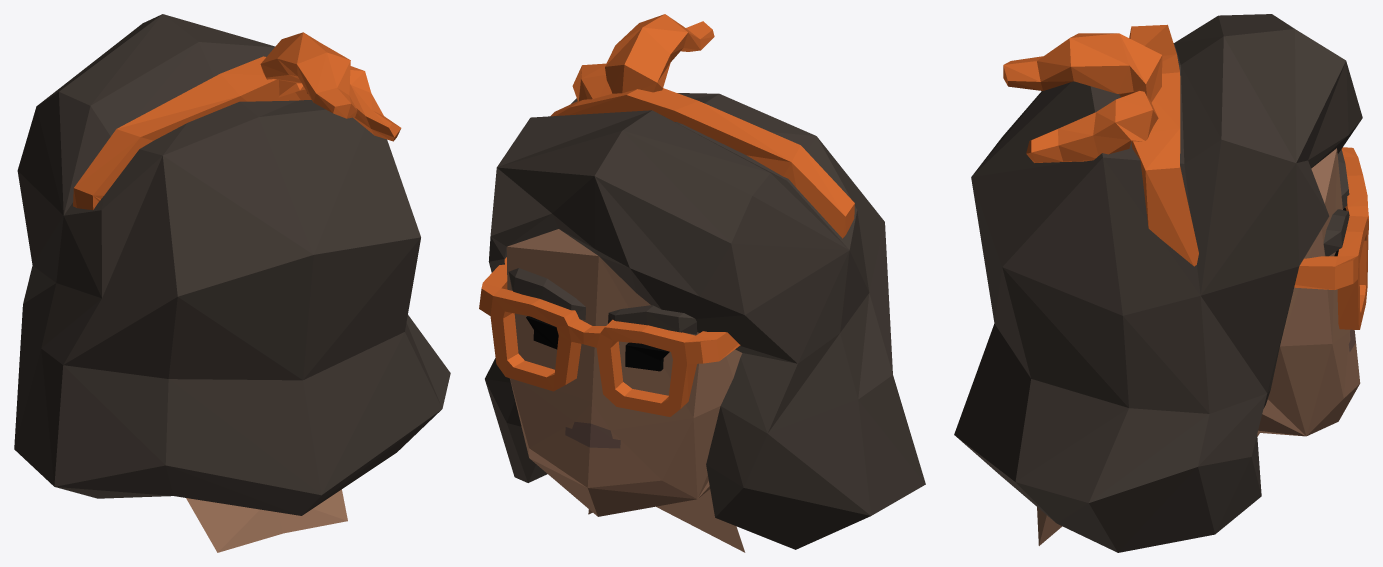
The model's file is Mother_01_Head_0_03_C.obj.
3 views of the same model, side by side, from view 1: azimuth 30°, elevation 25°; view 2: azimuth 150°, elevation 25°; view 3: azimuth 270°, elevation 25° (orthographic). The views are drawn at different scales.
Visible parts, largest first — view 1: Mother_01_Head_0_03_C; view 2: Mother_01_Head_0_03_C; view 3: Mother_01_Head_0_03_C.
Boxes of the visible parts, left/top/right/bottom form: Mother_01_Head_0_03_C: left=14, top=14, right=450, bottom=552; Mother_01_Head_0_03_C: left=479, top=14, right=925, bottom=552; Mother_01_Head_0_03_C: left=954, top=14, right=1368, bottom=552.
Bounding box in the file's own units: 0.3657 × 0.4118 × 0.3042.
1 material, 1 textured.
